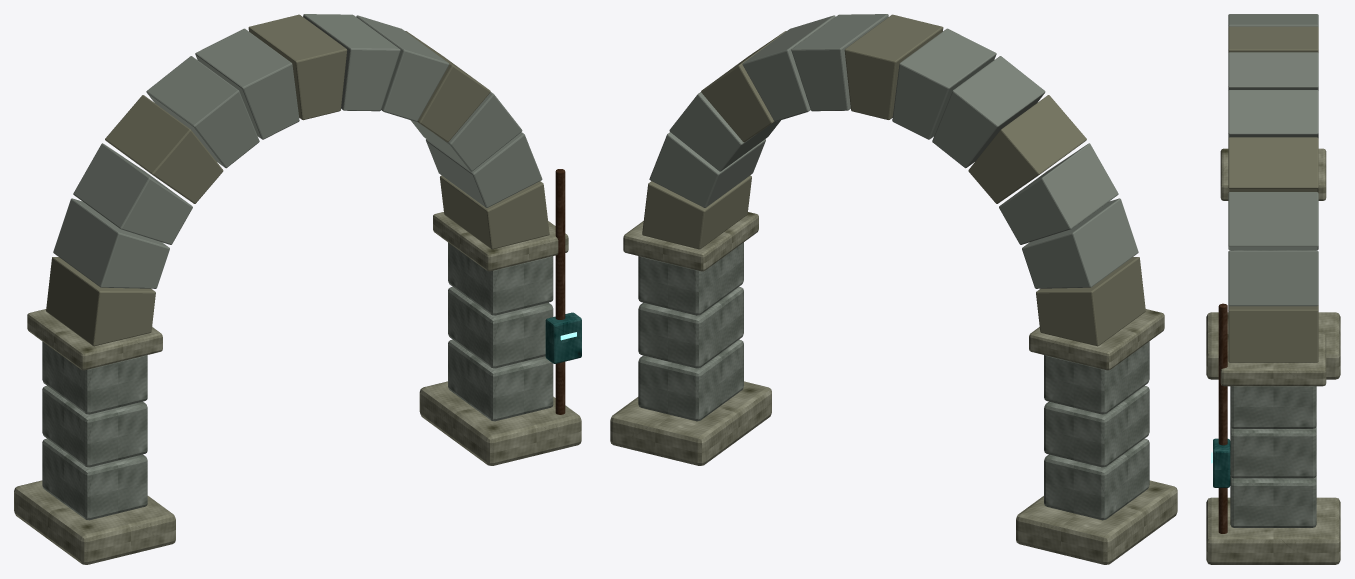
The picture shows the model from 3 angles, left to right: view 1: azimuth 30°, elevation 25°; view 2: azimuth 150°, elevation 25°; view 3: azimuth 270°, elevation 25°; orthographic projection. The views are drawn at different scales.
Parts seen in each view (by area): view 1: Coast_arch; view 2: Coast_arch; view 3: Coast_arch.
Part boxes in pixels (x1=…): Coast_arch: x1=14, y1=14, x2=581, y2=564; Coast_arch: x1=610, y1=14, x2=1177, y2=564; Coast_arch: x1=1206, y1=14, x2=1340, y2=564.
Size of the model in its own units: 6.27 by 5.28 by 1.55.
5 materials, 4 textured.
